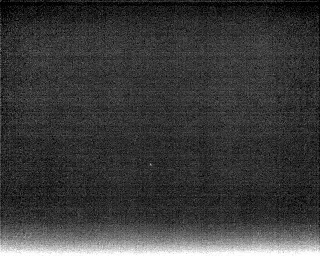BIRD: (147, 160, 155, 169)
